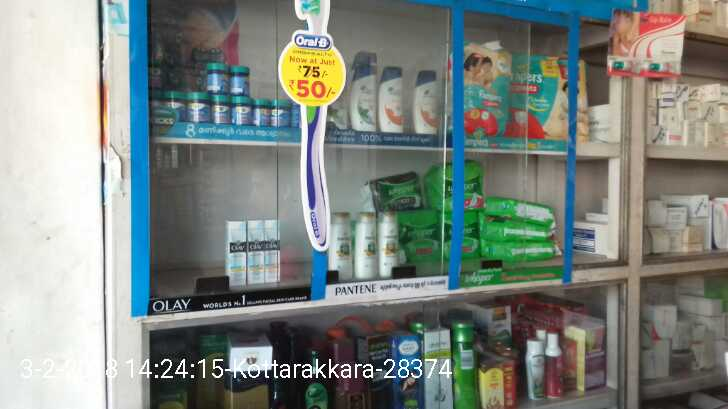vicks: (152, 54, 287, 128)
